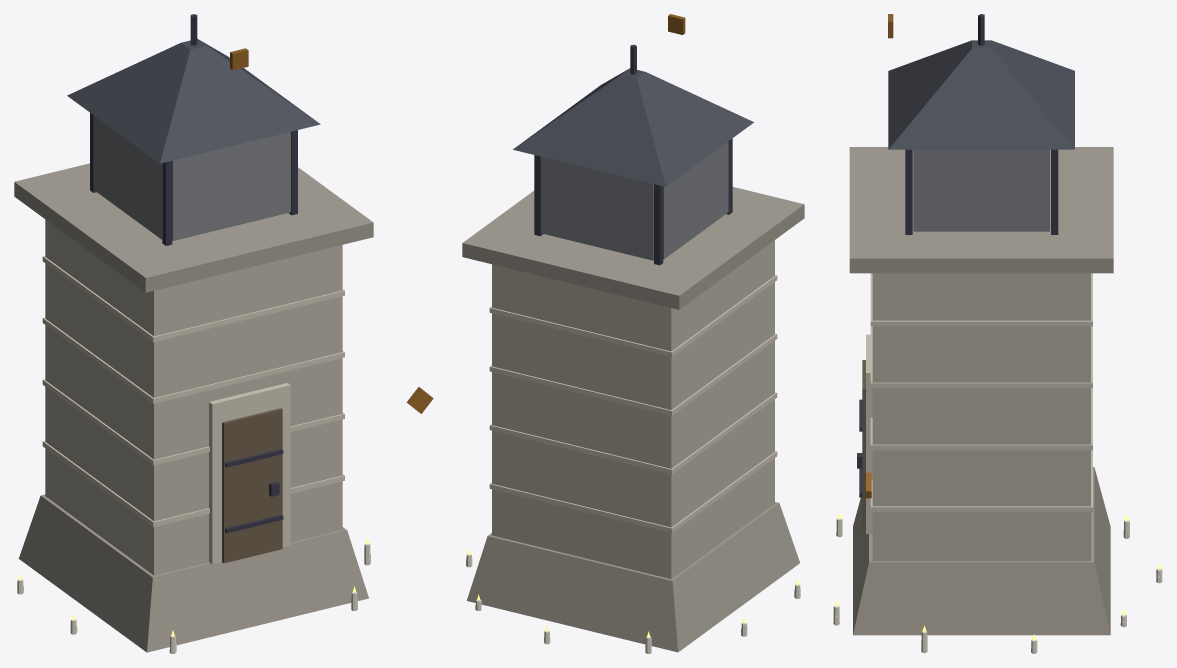
Rendered from vigil_light.glb.
The picture shows the model from 3 angles, left to right: view 1: azimuth 30°, elevation 25°; view 2: azimuth 150°, elevation 25°; view 3: azimuth 270°, elevation 25°; orthographic projection. The views are drawn at different scales.
Parts seen in each view (by area): view 1: bone_d20, bone_d30, slate_d30, silverfog_d35, bone_d12, driftwood_d45, ink_l15, bone_l10; view 2: bone_d20, bone_d30, slate_d30, silverfog_d35, bone_d12, ink_l15, bone_l10; view 3: bone_d20, bone_d30, slate_d30, silverfog_d35, bone_d12, ink_l15, bone_l10, driftwood_d45.
Part boxes in pixels (x1=…): bone_d20: x1=45, y1=219, x2=342, y2=575; bone_d30: x1=14, y1=163, x2=373, y2=652; slate_d30: x1=67, y1=39, x2=320, y2=163; silverfog_d35: x1=94, y1=116, x2=290, y2=240; bone_d12: x1=42, y1=256, x2=344, y2=564; driftwood_d45: x1=222, y1=408, x2=282, y2=563; ink_l15: x1=90, y1=14, x2=297, y2=533; bone_l10: x1=17, y1=543, x2=370, y2=653; bone_d20: x1=492, y1=240, x2=774, y2=579; bone_d30: x1=462, y1=187, x2=804, y2=652; slate_d30: x1=513, y1=68, x2=753, y2=186; silverfog_d35: x1=541, y1=141, x2=728, y2=260; bone_d12: x1=489, y1=275, x2=777, y2=532; ink_l15: x1=534, y1=44, x2=732, y2=265; bone_l10: x1=466, y1=554, x2=800, y2=653; bone_d20: x1=872, y1=273, x2=1090, y2=560; bone_d30: x1=849, y1=147, x2=1113, y2=635; slate_d30: x1=888, y1=40, x2=1074, y2=149; silverfog_d35: x1=913, y1=149, x2=1049, y2=231; bone_d12: x1=866, y1=273, x2=1092, y2=533; ink_l15: x1=857, y1=14, x2=1058, y2=497; bone_l10: x1=833, y1=518, x2=1162, y2=653; driftwood_d45: x1=862, y1=360, x2=865, y2=529.
Size of the model in its own units: 4.21 by 6.85 by 3.61.
